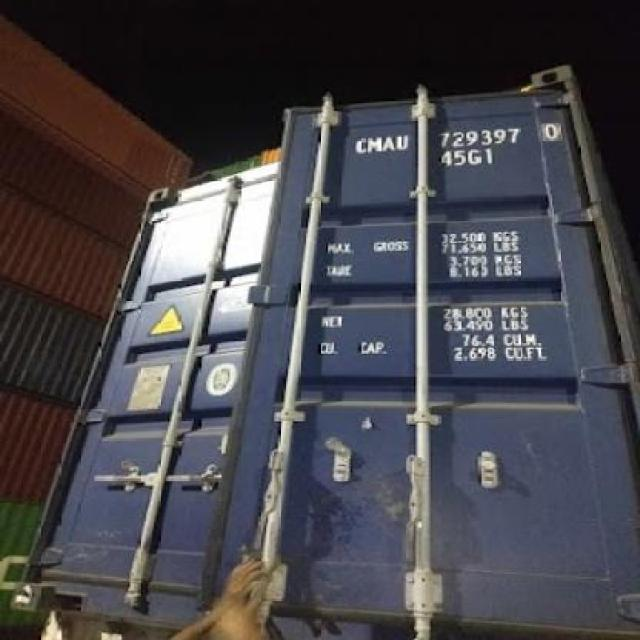ISO: (440, 148, 496, 168)
container_number: (352, 118, 558, 154)
